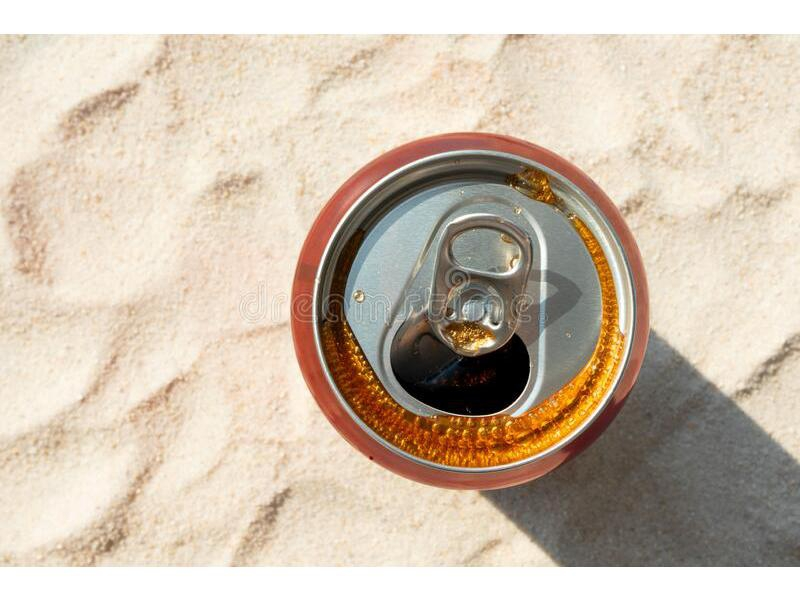can: (289, 132, 649, 493)
